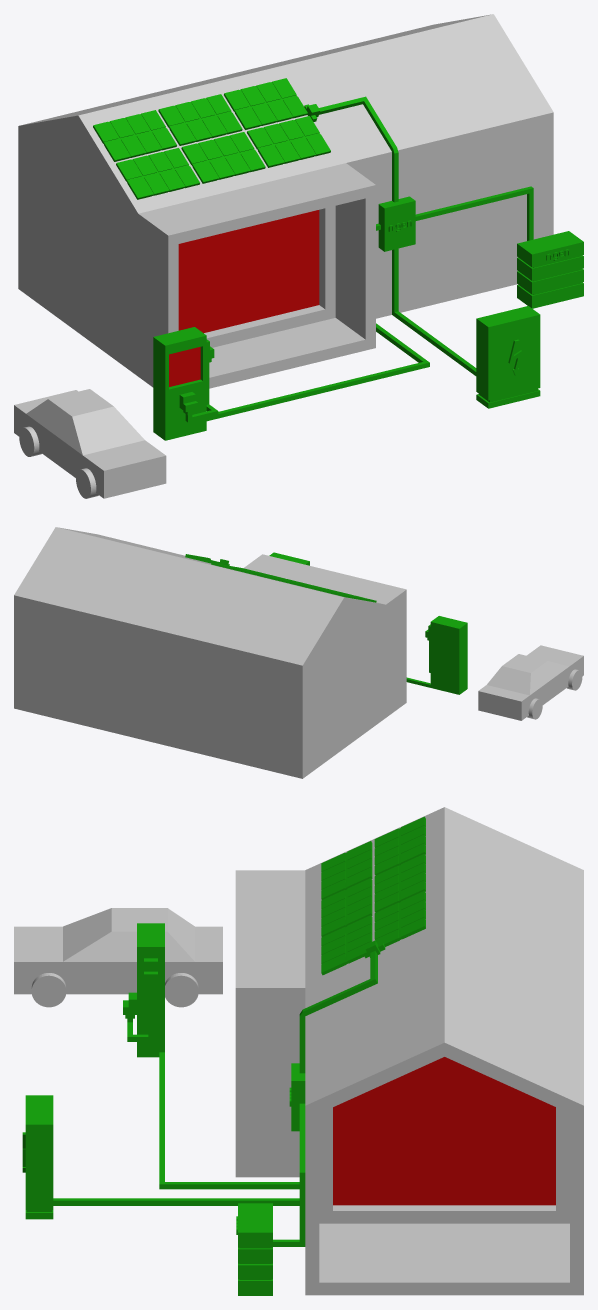
The model's file is for_home.obj.
The picture shows the model from 3 angles, top to bottom: view 1: azimuth 30°, elevation 25°; view 2: azimuth 150°, elevation 25°; view 3: azimuth 270°, elevation 25°; orthographic projection. The views are drawn at different scales.
Parts seen in each view (by area): view 1: House_01_Primary, House_01_Roof_Solar_Panel, EV_Car_01_Body, Transformer, EV_Charger_Body, Home_Battery_Body, NGEN_Smart_Box_Connector_-_EV_Charger, NGEN_Smart_Box, NGEN_Smart_Box_Connector_-_Battery, NGEN_Smart_Box_Connector_-_Grid, NGEN_Smart_Box_Connector_-_Solar_Panels; view 2: House_01_Primary, EV_Car_01_Body, EV_Charger_Body, House_01_Roof_Solar_Panel; view 3: House_01_Primary, EV_Car_01_Body, House_01_Roof_Solar_Panel, Transformer, Home_Battery_Body, EV_Charger_Body, NGEN_Smart_Box_Connector_-_EV_Charger, NGEN_Smart_Box_Connector_-_Grid, NGEN_Smart_Box_Connector_-_Solar_Panels, NGEN_Smart_Box_Connector_-_Battery, EV_Car_01_Front_Left_Tire, EV_Car_01_Rear_Left_Tire (+2 smaller).
Part boxes in pixels (left/top/right/bottom): House_01_Primary: left=18, top=14, right=553, bottom=388; House_01_Roof_Solar_Panel: left=93, top=78, right=330, bottom=199; EV_Car_01_Body: left=14, top=389, right=166, bottom=498; Transformer: left=476, top=306, right=540, bottom=408; EV_Charger_Body: left=153, top=327, right=206, bottom=440; Home_Battery_Body: left=517, top=231, right=583, bottom=308; NGEN_Smart_Box_Connector_-_EV_Charger: left=206, top=223, right=429, bottom=421; NGEN_Smart_Box: left=378, top=196, right=415, bottom=251; NGEN_Smart_Box_Connector_-_Battery: left=415, top=186, right=533, bottom=240; NGEN_Smart_Box_Connector_-_Grid: left=392, top=248, right=476, bottom=375; NGEN_Smart_Box_Connector_-_Solar_Panels: left=319, top=96, right=398, bottom=202; House_01_Primary: left=14, top=527, right=406, bottom=778; EV_Car_01_Body: left=478, top=645, right=583, bottom=720; EV_Charger_Body: left=430, top=616, right=467, bottom=694; House_01_Roof_Solar_Panel: left=211, top=563, right=376, bottom=602; House_01_Primary: left=235, top=807, right=583, bottom=1295; EV_Car_01_Body: left=14, top=908, right=222, bottom=994; House_01_Roof_Solar_Panel: left=321, top=816, right=425, bottom=975; Transformer: left=25, top=1095, right=53, bottom=1219; Home_Battery_Body: left=238, top=1203, right=272, bottom=1295; EV_Charger_Body: left=137, top=923, right=164, bottom=1057; NGEN_Smart_Box_Connector_-_EV_Charger: left=159, top=1052, right=299, bottom=1189; NGEN_Smart_Box_Connector_-_Grid: left=53, top=1198, right=299, bottom=1205; NGEN_Smart_Box_Connector_-_Solar_Panels: left=299, top=951, right=377, bottom=1073; NGEN_Smart_Box_Connector_-_Battery: left=273, top=1103, right=305, bottom=1246; EV_Car_01_Front_Left_Tire: left=31, top=973, right=66, bottom=1007; EV_Car_01_Rear_Left_Tire: left=165, top=973, right=198, bottom=1007.
Bounding box in the file's own units: 5.6 × 2 × 4.09.
